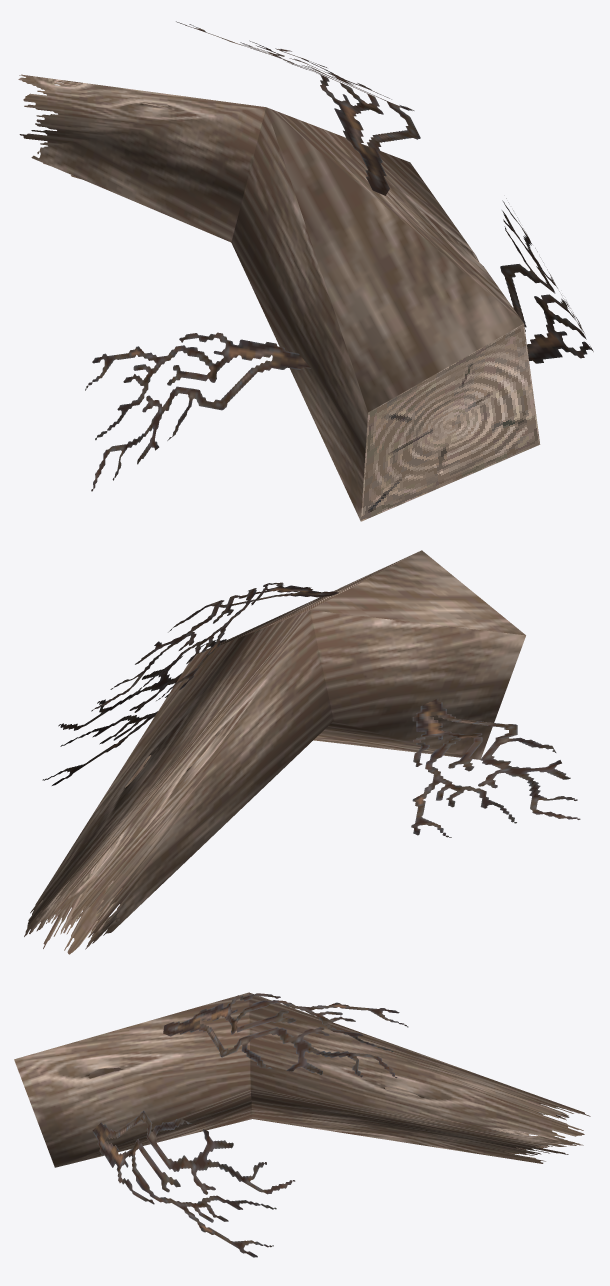
Rendered from westfalldriftwood.obj.
3 views of the same model, one above another, from view 1: azimuth 30°, elevation 25°; view 2: azimuth 150°, elevation 25°; view 3: azimuth 270°, elevation 25° (orthographic). The views are drawn at different scales.
Visible parts, largest first — view 1: WESTFALLDRIFTWOOD1, WESTFALLDRIFTWOOD0, WESTFALLDRIFTWOOD2; view 2: WESTFALLDRIFTWOOD1, WESTFALLDRIFTWOOD2; view 3: WESTFALLDRIFTWOOD1, WESTFALLDRIFTWOOD2.
Part boxes in pixels (box(x1,y1,x2,y2)): WESTFALLDRIFTWOOD1: box(18, 74, 523, 521); WESTFALLDRIFTWOOD0: box(361, 323, 540, 521); WESTFALLDRIFTWOOD2: box(85, 21, 593, 491); WESTFALLDRIFTWOOD1: box(24, 550, 525, 954); WESTFALLDRIFTWOOD2: box(42, 582, 580, 837); WESTFALLDRIFTWOOD1: box(14, 992, 590, 1167); WESTFALLDRIFTWOOD2: box(92, 993, 408, 1257).
Size of the model in its own units: 2.82 by 1.51 by 4.02.
3 materials, 3 textured.
